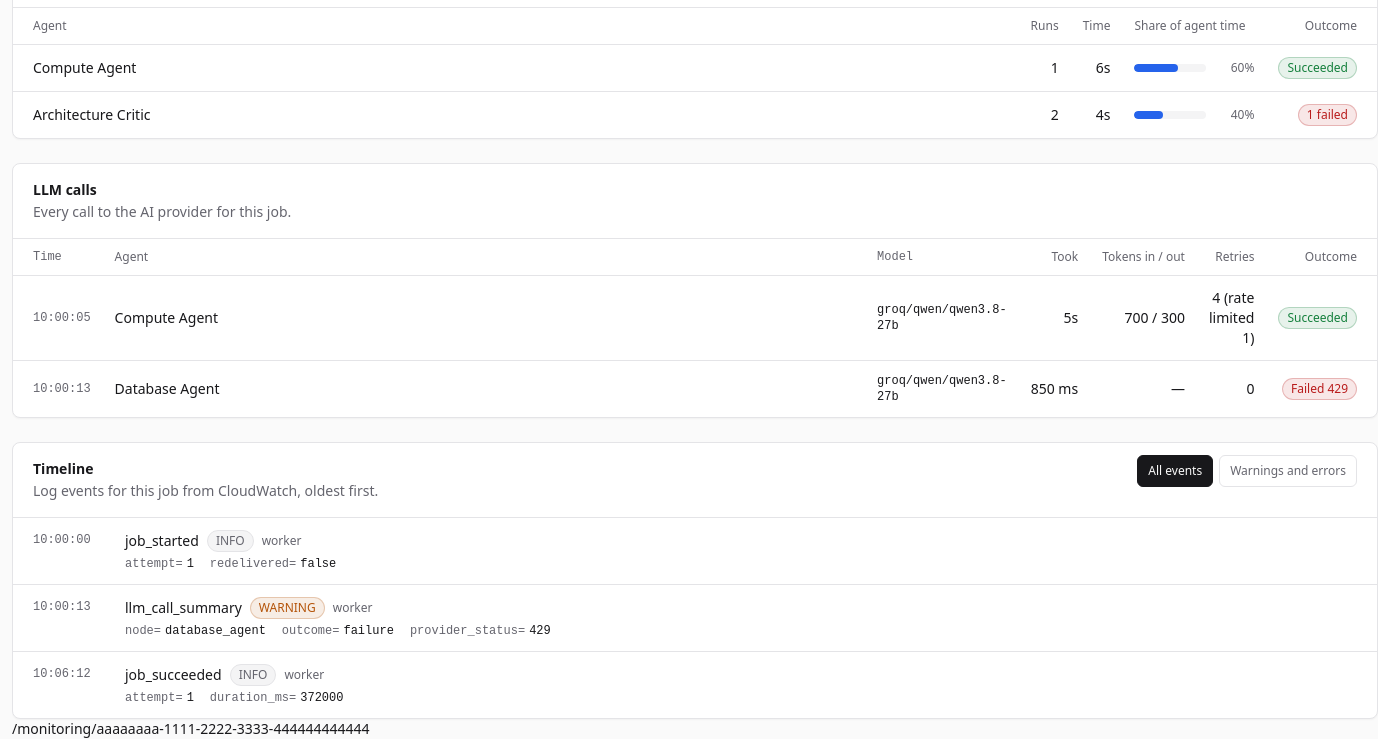
Test case: Monitoring page › shows the timeline with the logged fields, and can show only warnings and errors
(page scrolled)
Click the button "Warnings and errors": (1288, 471) x1=1219 y1=455 x2=1357 y2=487
(page scrolled)
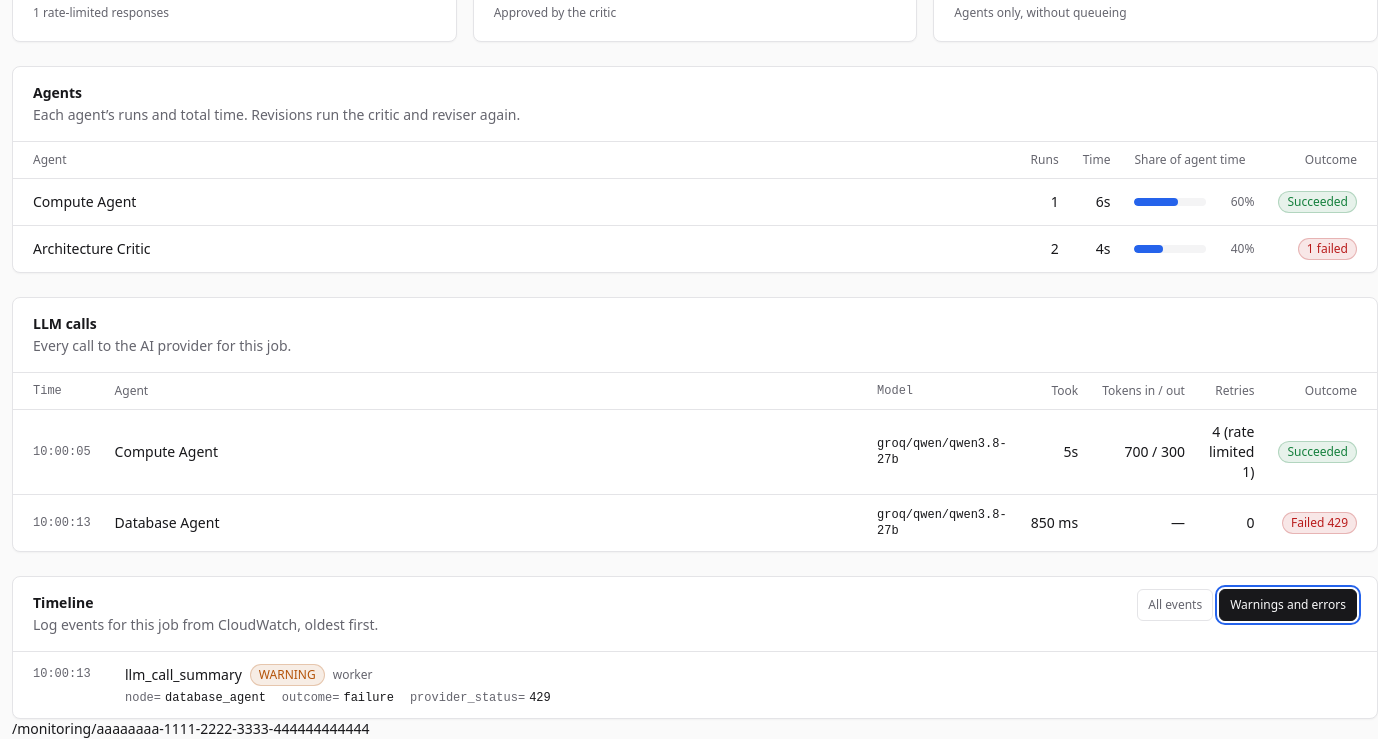
Now the number of list items is 1, box x1=33 y1=664 x2=551 y2=705
